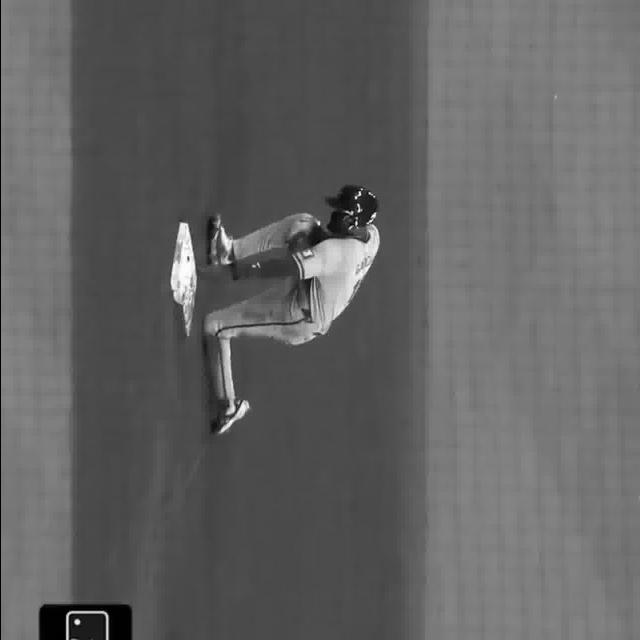base: (172, 224, 192, 338)
shoe: (207, 402, 253, 436), (205, 212, 232, 266)
